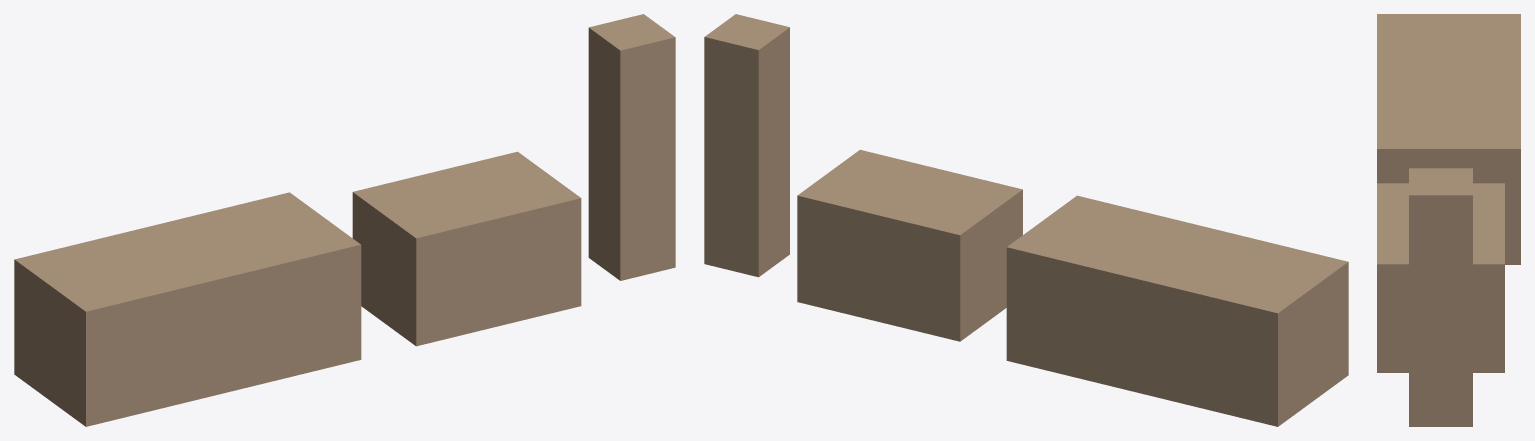
The model's file is room.dae.
3 views of the same model, side by side, from view 1: azimuth 30°, elevation 25°; view 2: azimuth 150°, elevation 25°; view 3: azimuth 270°, elevation 25° (orthographic).
Parts seen in each view (by area): view 1: Sofa, Table, Lamp; view 2: Sofa, Table, Lamp; view 3: Sofa, Lamp, Table.
Boxes of the visible parts, box(x1,y1,x2,y2) form: Sofa: box(14, 192, 361, 426); Table: box(352, 151, 581, 346); Lamp: box(588, 14, 675, 280); Sofa: box(1006, 195, 1348, 426); Table: box(797, 149, 1022, 341); Lamp: box(704, 14, 789, 277); Sofa: box(1377, 14, 1520, 264); Lamp: box(1409, 168, 1472, 426); Table: box(1377, 183, 1504, 372).
Bounding box in the file's own units: 440 × 90 × 160.
